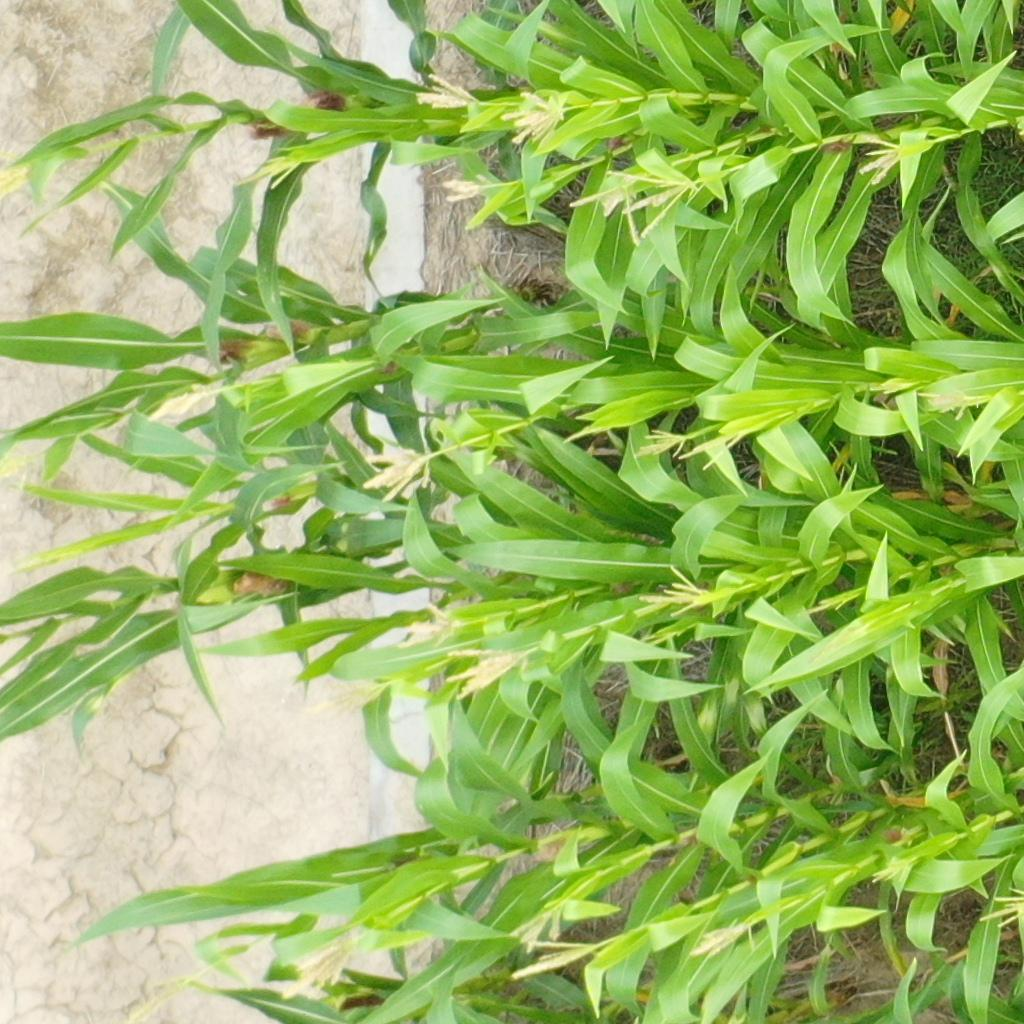Tassel: (607, 166, 701, 237), (277, 934, 366, 1003), (443, 643, 536, 702), (570, 171, 644, 244), (365, 442, 436, 506), (126, 969, 205, 1024), (509, 938, 605, 983), (498, 87, 572, 143), (311, 675, 392, 722), (640, 565, 713, 617), (397, 600, 464, 656), (509, 896, 565, 957), (232, 148, 307, 191), (689, 916, 756, 960), (414, 70, 481, 113), (677, 431, 748, 470), (858, 134, 911, 186), (151, 386, 212, 426), (917, 388, 982, 421), (436, 170, 494, 205), (632, 426, 689, 459), (979, 884, 1023, 926), (1, 151, 32, 205), (871, 855, 918, 890), (795, 593, 851, 621), (1, 452, 34, 481), (641, 628, 683, 648), (868, 380, 913, 394)
